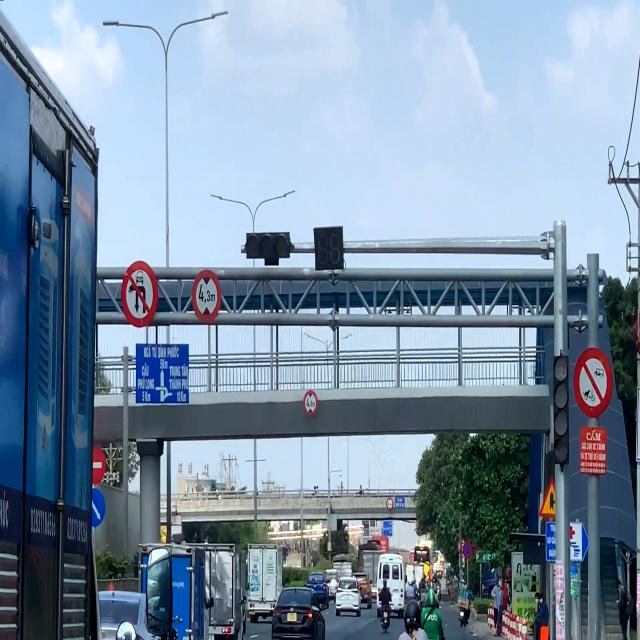P.117: (193, 268, 219, 324), (303, 389, 318, 416)
P.130: (463, 538, 472, 560)
